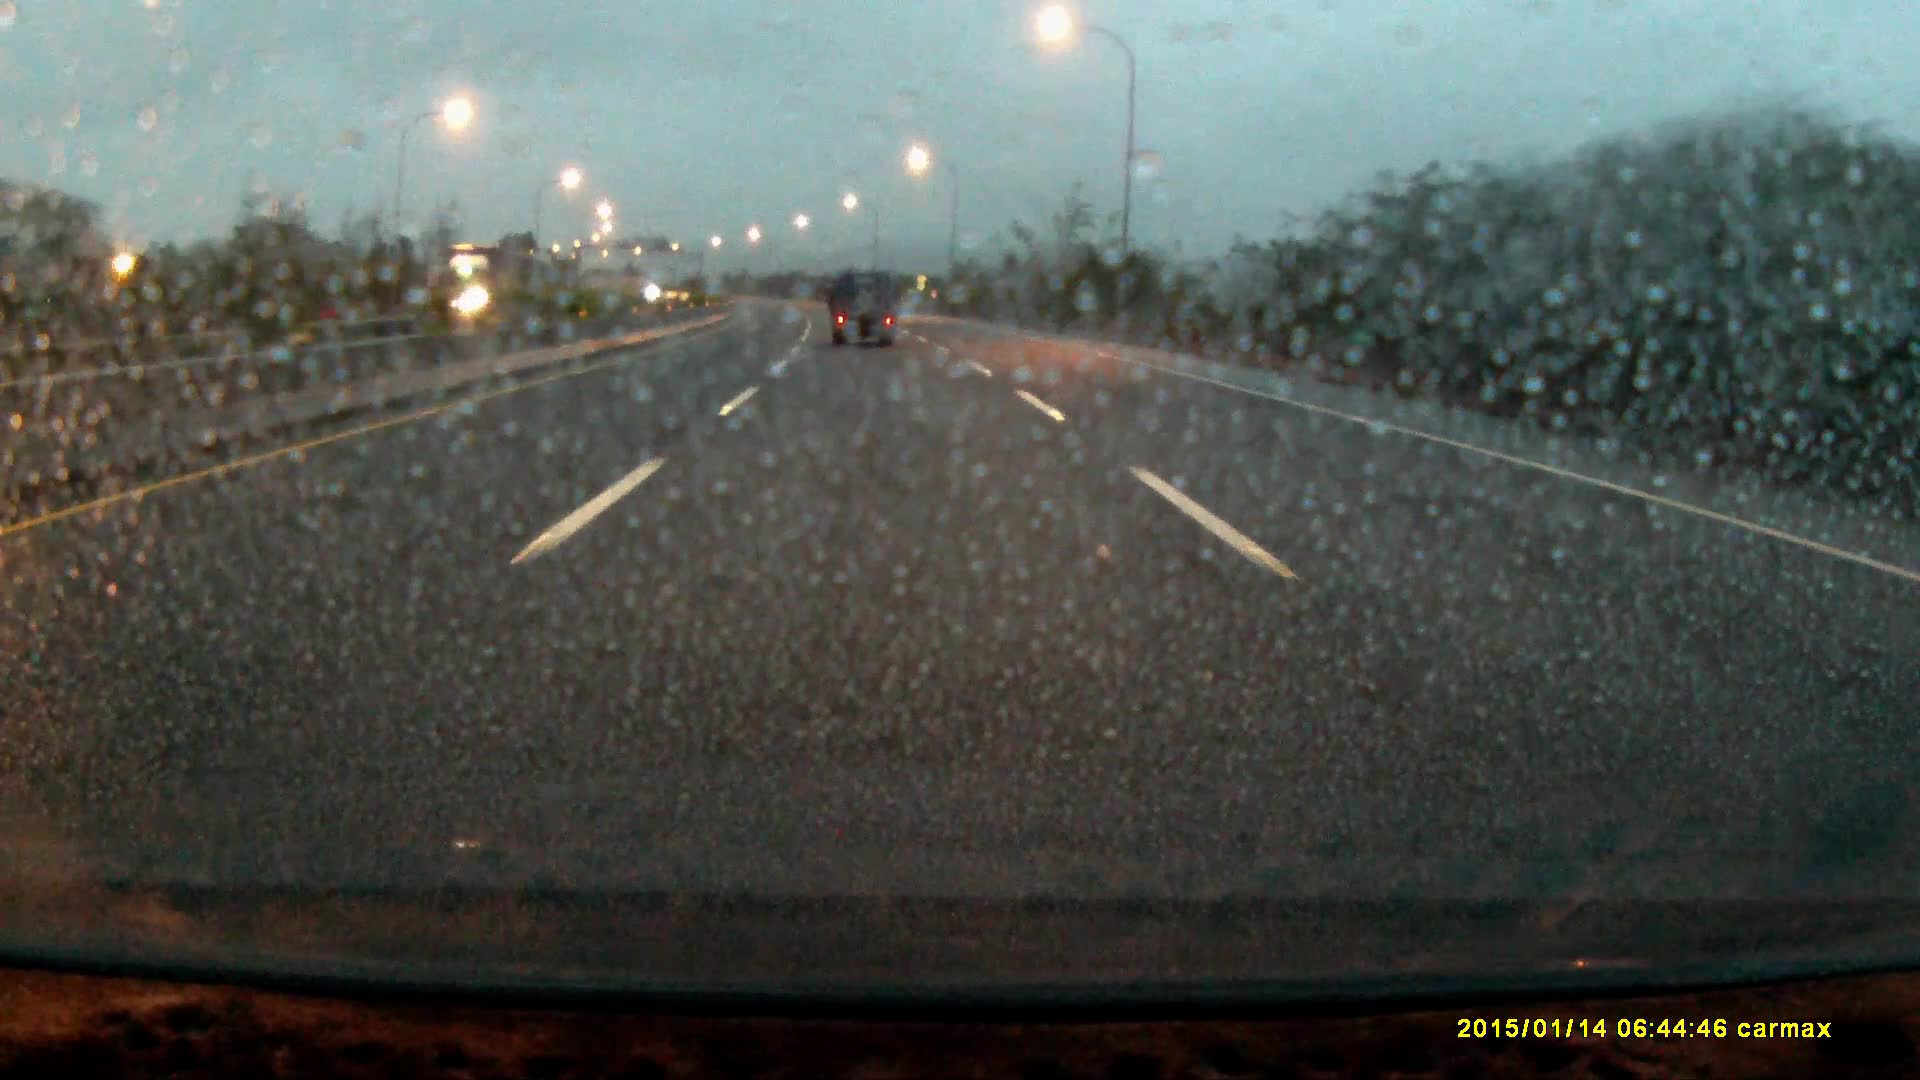vehicle: (427, 244, 539, 334), (831, 272, 902, 351)
